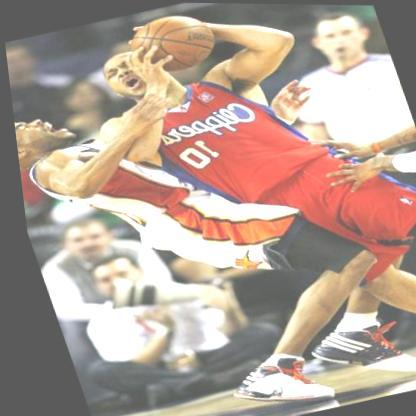basketball: (118, 4, 227, 80)
